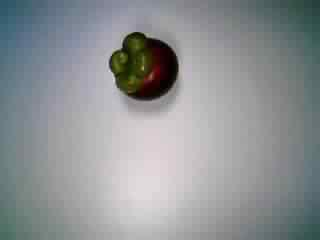mangosteen: (105, 27, 183, 103)
